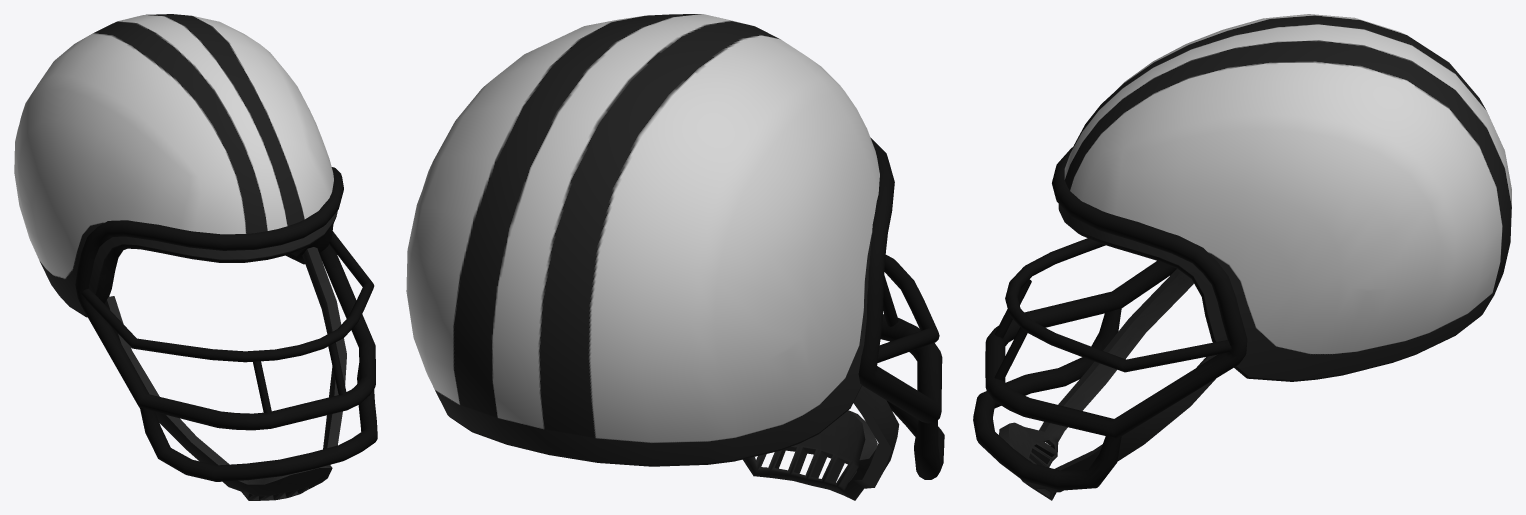
Rendered from SM_Helmet021.fbx.
The picture shows the model from 3 angles, left to right: view 1: azimuth 30°, elevation 25°; view 2: azimuth 150°, elevation 25°; view 3: azimuth 270°, elevation 25°; orthographic projection. The views are drawn at different scales.
Visible parts, largest first — view 1: SM_Helmet021; view 2: SM_Helmet021; view 3: SM_Helmet021.
Part boxes in pixels (x1,y1,x2,y2): SM_Helmet021: (14, 14, 377, 500); SM_Helmet021: (406, 14, 944, 500); SM_Helmet021: (973, 14, 1511, 500).
Size of the model in its own units: 27.36 by 39.06 by 42.3.
